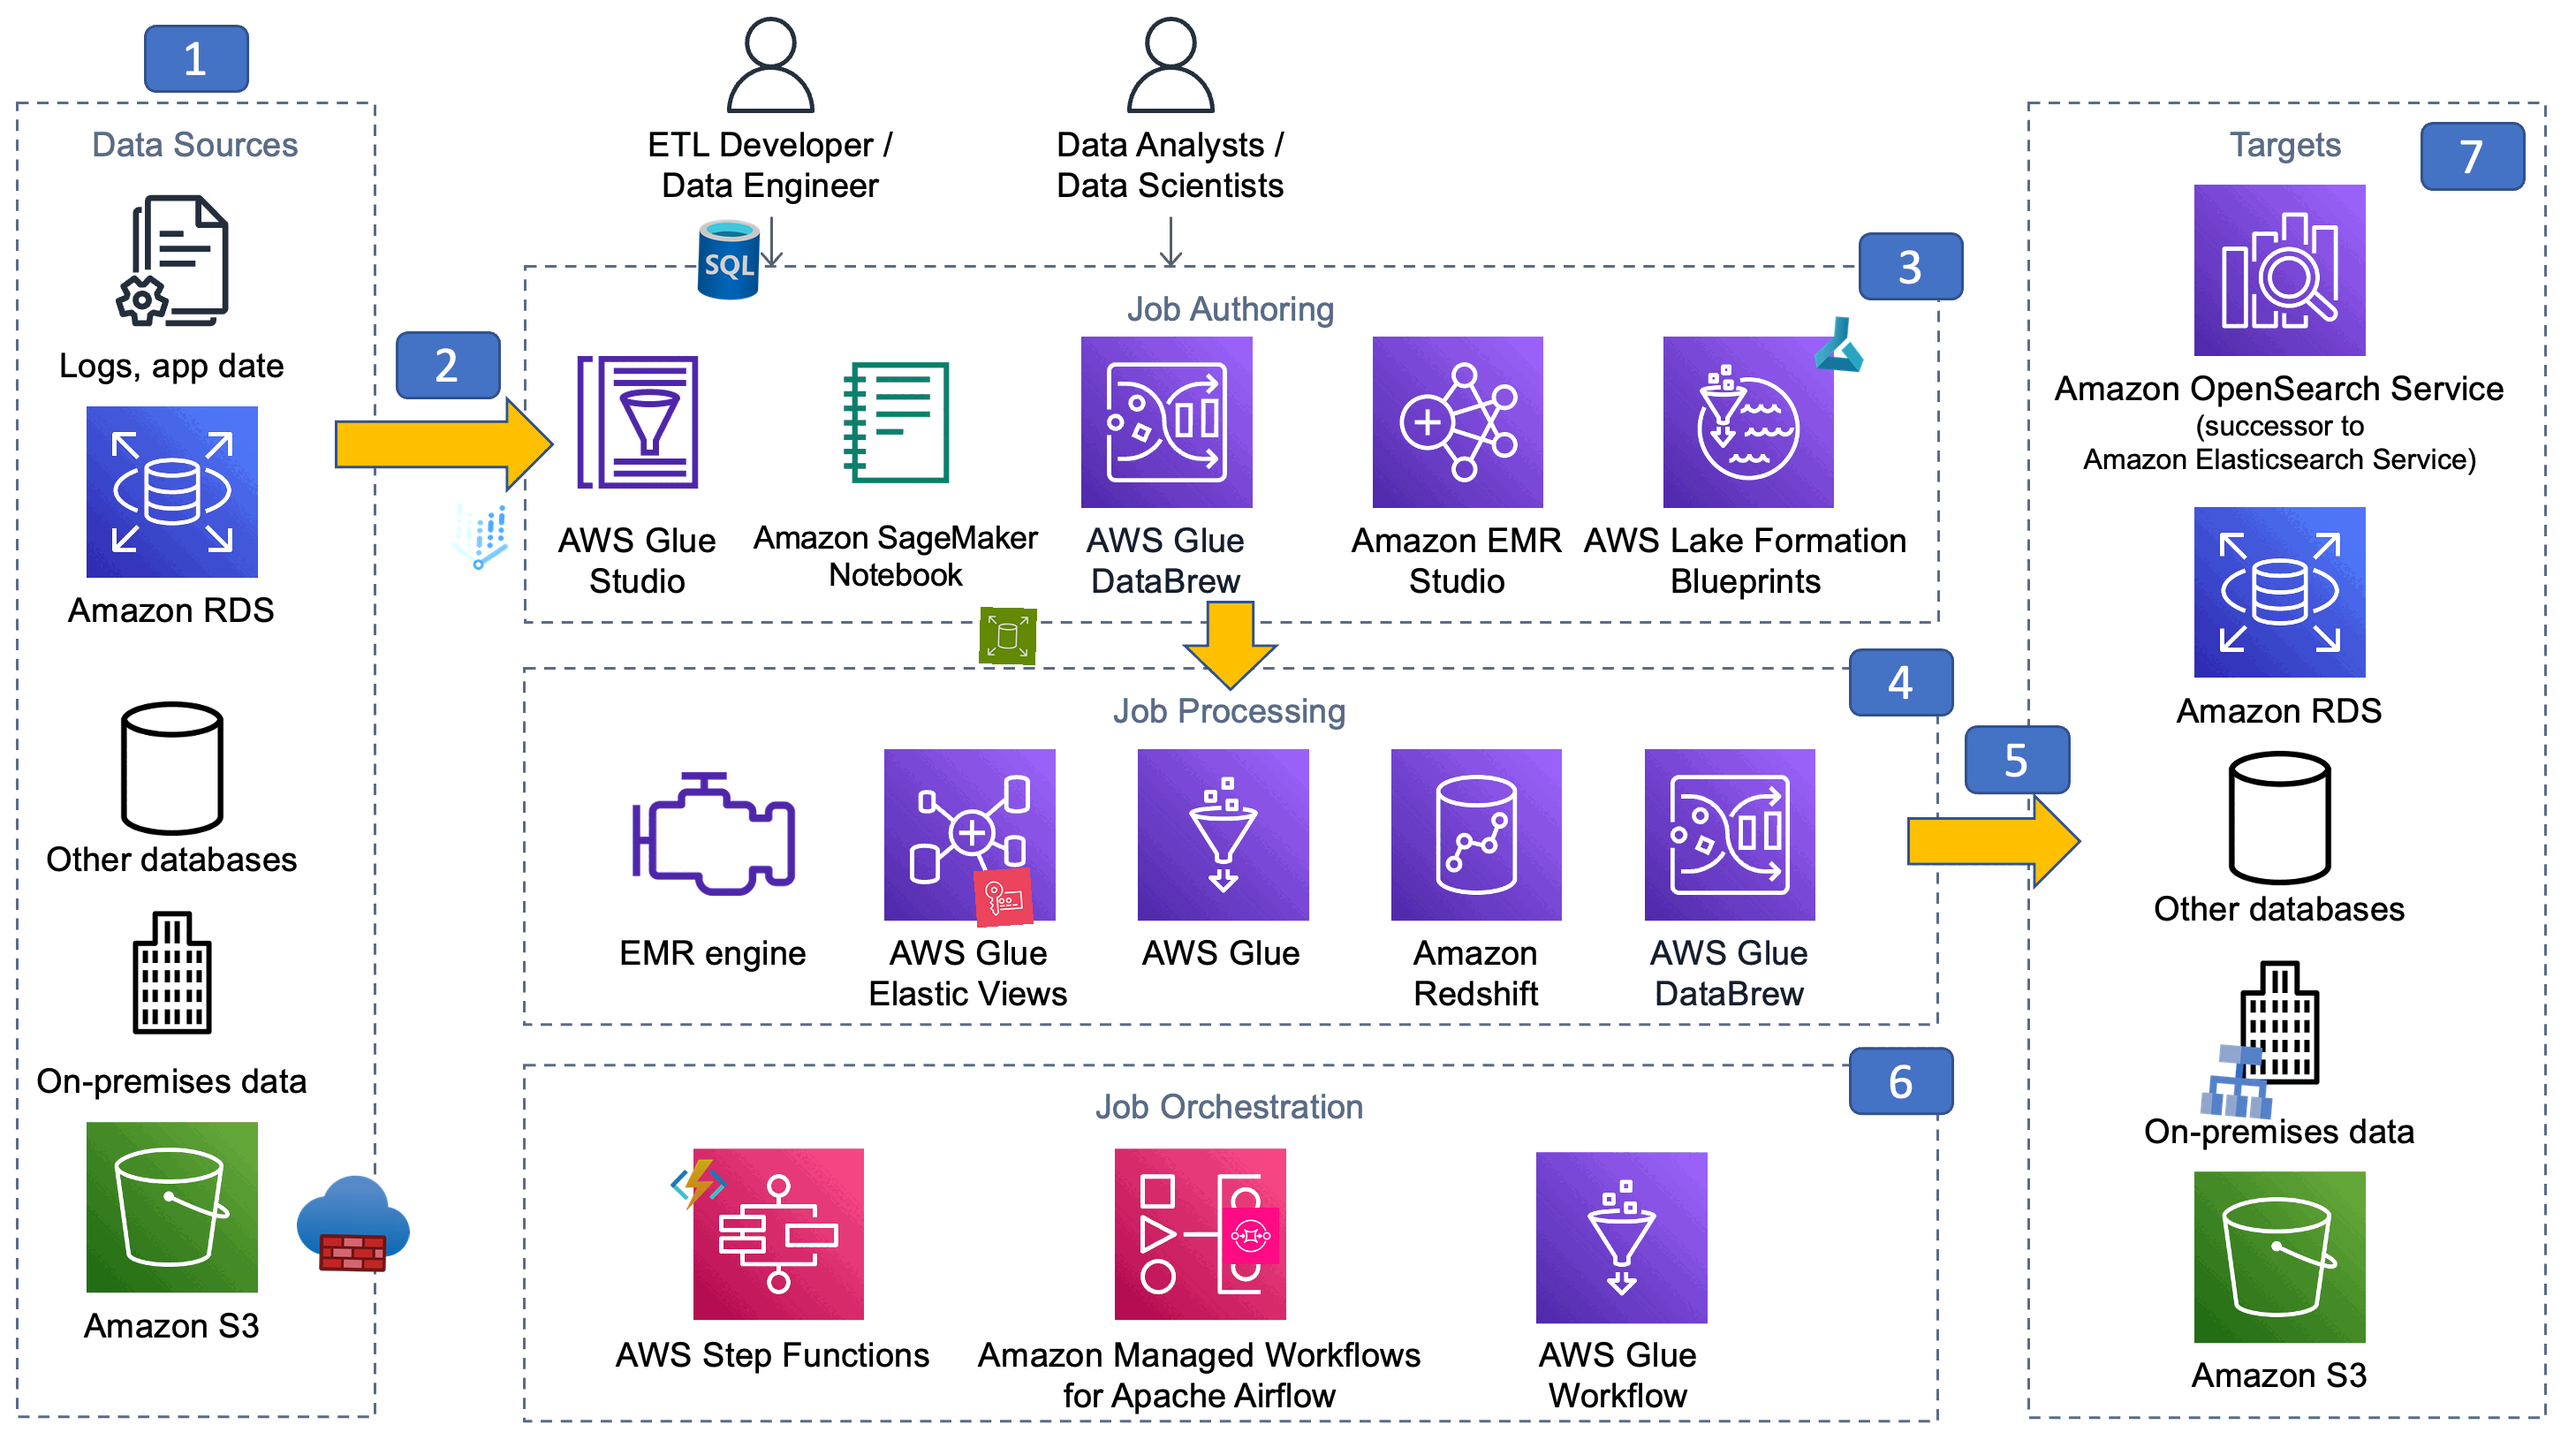aws_amazon_elastic_block_store: (978, 607, 1037, 665)
aws_amazon_simple_queue_service: (1223, 1206, 1281, 1265)
aws_key_management_service: (973, 867, 1035, 929)
azure_firewalls: (295, 1166, 412, 1283)
azure_function_apps: (669, 1155, 727, 1214)
azure_machine_learning: (1810, 313, 1872, 375)
azure_sql_database: (685, 216, 773, 304)
gcp_cloud_load_balancing: (2192, 1035, 2284, 1127)
gcp_vertex_ai: (435, 492, 525, 582)
